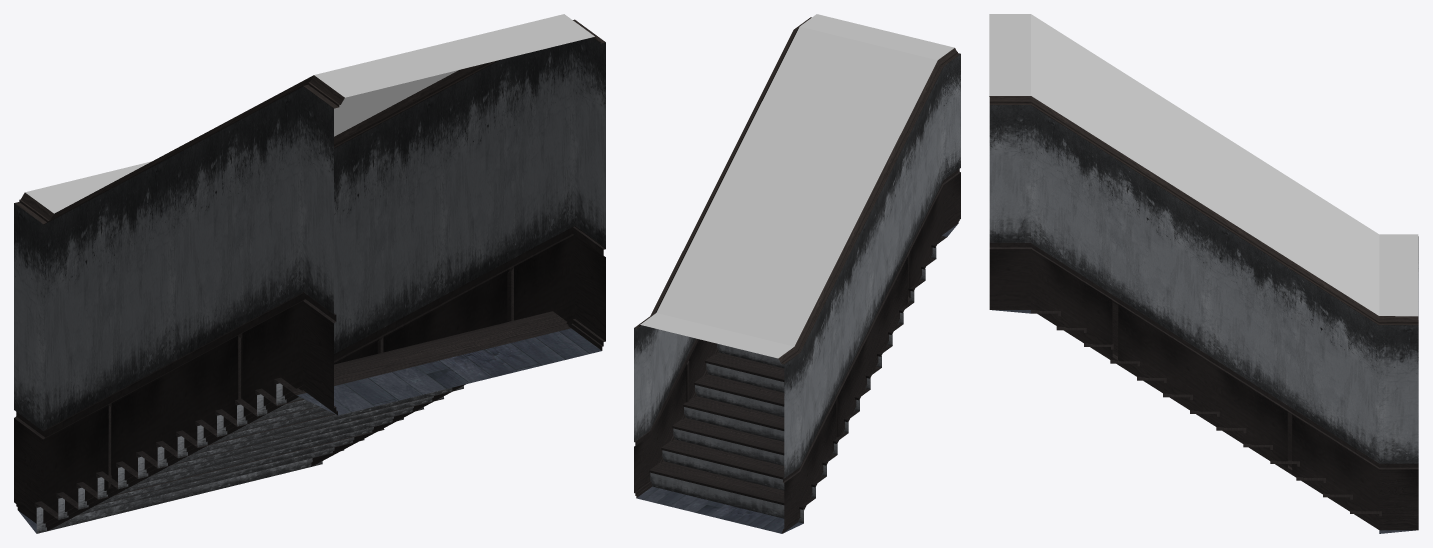
Rendered from FPH_Stairs.fbx.
The picture shows the model from 3 angles, left to right: view 1: azimuth 30°, elevation 25°; view 2: azimuth 150°, elevation 25°; view 3: azimuth 270°, elevation 25°; orthographic projection. The views are drawn at different scales.
Visible parts, largest first — view 1: FPH_Stairs; view 2: FPH_Stairs; view 3: FPH_Stairs.
Part boxes in pixels (x1,y1,x2,y2): FPH_Stairs: (14,14,605,533); FPH_Stairs: (634,14,960,533); FPH_Stairs: (989,14,1418,533).
Bounding box in the file's own units: 12.6 × 27.14 × 24.42.
